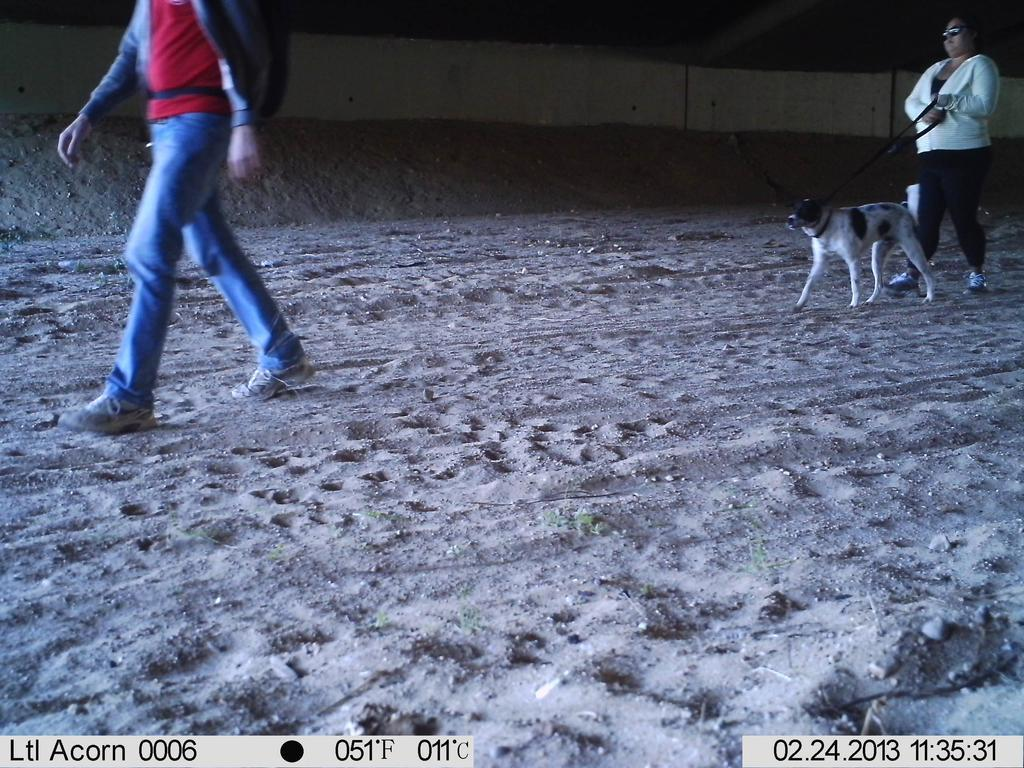dog: (779, 191, 950, 313)
